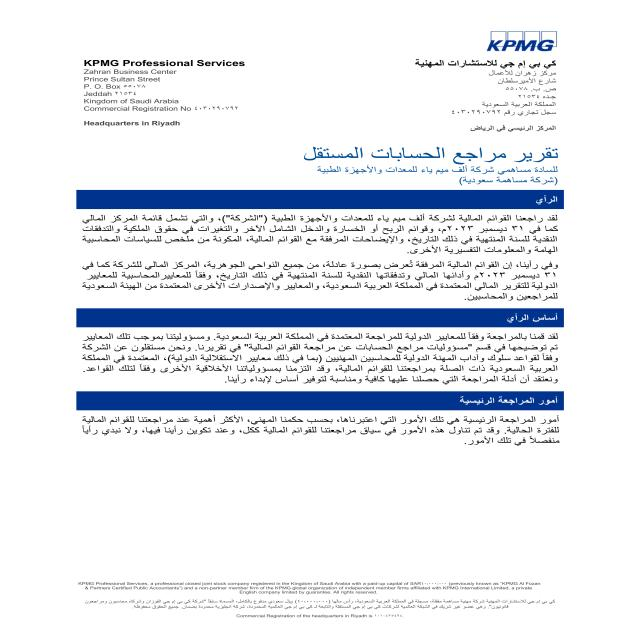auditor_report: (300, 148, 573, 166)
